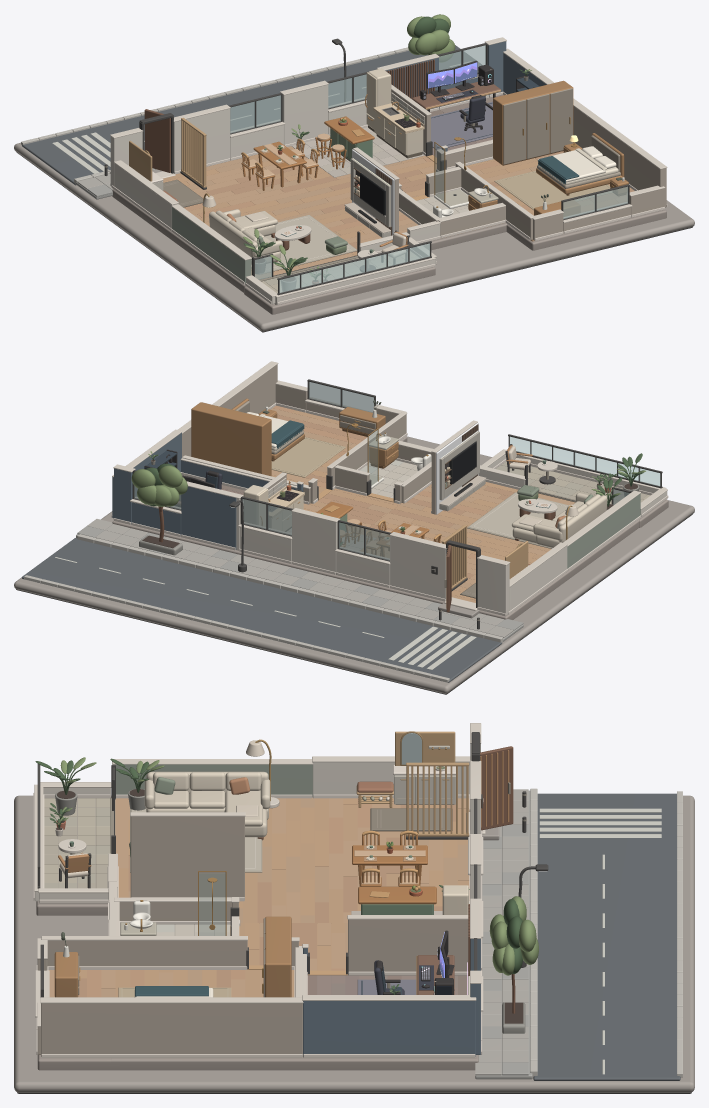
File: home.glb
3 views of the same model, one above another, from view 1: azimuth 30°, elevation 25°; view 2: azimuth 150°, elevation 25°; view 3: azimuth 270°, elevation 25° (orthographic). The views are drawn at different scales.
Parts seen in each view (by area): view 1: Home shell | Exterior · natural warm concrete, Home shell | Wall · warm white, Home shell | Wall · hand-troweled putty, Home shell | Stone · pale quartz, Home shell | Street · finely grained charcoal asphalt, Home shell | Glass · cool tint, Home shell | Plinth · mineral warm grey, Home shell | Frame · powder coated bronze, Bedroom · triple wardrobe | Private rooms | oatmeal upholste, Home shell | Parquet · oak shade 5, Home shell | Trim · cotton white, Home shell | Parquet · oak shade 1 (+37 smaller); view 2: Home shell | Street · finely grained charcoal asphalt, Home shell | Wall · warm white, Home shell | Exterior · natural warm concrete, Home shell | Stone · pale quartz, Home shell | Wall · slate blue, Home shell | Glass · cool tint, Home shell | Street · pale paving, Home shell | Wall · hand-troweled putty, Home shell | Street · chalk curb, Bedroom · triple wardrobe | Private rooms | natural oak, Home shell | Frame · powder coated bronze, Home shell | Trim · cotton white (+25 smaller); view 3: Home shell | Street · finely grained charcoal asphalt, Home shell | Wall · hand-troweled putty, Home shell | Exterior · natural warm concrete, Home shell | Stone · pale quartz, Home shell | Wall · slate blue, Home shell | Street · pale paving, Home shell | Parquet · oak shade 5, Home shell | Plinth · mineral warm grey, Home shell | Parquet · oak shade 1, Home shell | Parquet · oak shade 2, Home shell | Trim · cotton white, Living · sectional sofa | Living · pearl bouclé (+34 smaller).
Part boxes in pixels (x1,y1,x2,y2): Home shell | Exterior · natural warm concrete: (14,142,694,331); Home shell | Wall · warm white: (110,85,440,304); Home shell | Wall · hand-troweled putty: (391,90,666,240); Home shell | Stone · pale quartz: (110,37,667,297); Home shell | Street · finely grained charcoal asphalt: (22,45,482,185); Home shell | Glass · cool tint: (230,45,628,292); Home shell | Plinth · mineral warm grey: (112,189,666,314); Home shell | Frame · powder coated bronze: (16,38,692,332); Bedroom · triple wardrobe | Private rooms | oatmeal upholste: (503,88,572,164); Home shell | Parquet · oak shade 5: (186,157,627,278); Home shell | Trim · cotton white: (110,91,667,304); Home shell | Parquet · oak shade 1: (163,146,537,241); Home shell | Street · finely grained charcoal asphalt: (22,538,502,682); Home shell | Wall · warm white: (236,454,667,615); Home shell | Exterior · natural warm concrete: (14,436,694,693); Home shell | Stone · pale quartz: (112,361,667,610); Home shell | Wall · slate blue: (112,433,303,549); Home shell | Glass · cool tint: (134,382,660,560); Home shell | Street · pale paving: (87,519,513,637); Home shell | Wall · hand-troweled putty: (182,364,435,514); Home shell | Street · chalk curb: (24,534,503,682); Bedroom · triple wardrobe | Private rooms | natural oak: (191,402,271,476); Home shell | Frame · powder coated bronze: (16,379,692,694); Home shell | Trim · cotton white: (111,402,668,616); Home shell | Street · finely grained charcoal asphalt: (533,793,680,1080); Home shell | Wall · hand-troweled putty: (37,816,468,1056); Home shell | Exterior · natural warm concrete: (14,795,694,1092); Home shell | Stone · pale quartz: (34,723,485,1026); Home shell | Wall · slate blue: (303,939,480,1056); Home shell | Street · pale paving: (475,789,528,1075); Home shell | Parquet · oak shade 5: (49,798,469,997); Home shell | Plinth · mineral warm grey: (36,797,478,1070); Home shell | Parquet · oak shade 1: (115,798,469,997); Home shell | Parquet · oak shade 2: (79,798,457,997); Home shell | Trim · cotton white: (33,793,483,1057); Living · sectional sofa | Living · pearl bouclé: (144,771,270,837).
Size of the model in its own units: 15.53 by 3.39 by 15.42.
